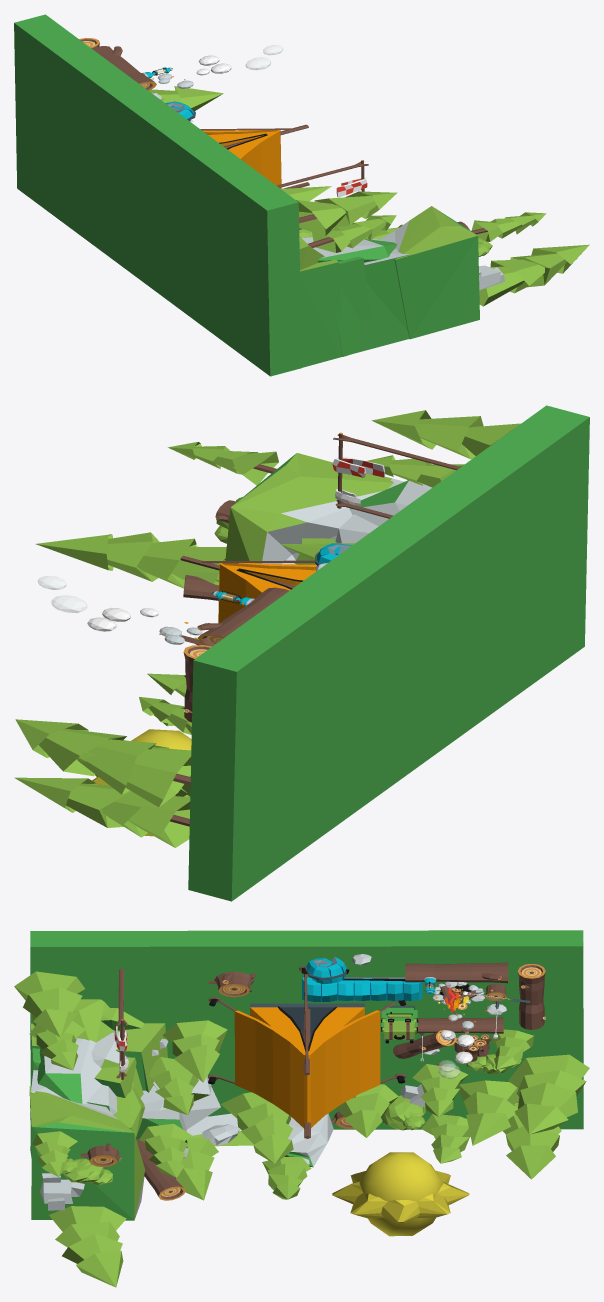
The model's file is coupon_4.gltf.
The picture shows the model from 3 angles, top to bottom: view 1: azimuth 30°, elevation 25°; view 2: azimuth 150°, elevation 25°; view 3: azimuth 270°, elevation 25°; orthographic projection. The views are drawn at different scales.
Visible parts, largest first — view 1: Camping Asset Collection, Buffer Layer (×12); view 2: Camping Asset Collection, Buffer Layer (×15), GeoSphere001; view 3: Buffer Layer (×41), Camping Asset Collection, GeoSphere001, GeoSphere002, GeoSphere003.
Boxes of the visible parts, x1,y1,x2,y2 form: Camping Asset Collection: (14, 14, 504, 376); Buffer Layer (×12): (92, 46, 589, 367); Camping Asset Collection: (38, 405, 589, 901); Buffer Layer (×15): (14, 410, 520, 847); GeoSphere001: (131, 729, 191, 836); Buffer Layer (×41): (14, 957, 589, 1287); Camping Asset Collection: (30, 930, 583, 1210); GeoSphere001: (359, 1152, 442, 1236); GeoSphere002: (350, 1170, 450, 1218); GeoSphere003: (332, 1180, 469, 1222).
Bounding box in the file's own units: 3.87 × 2.17 × 4.9.
